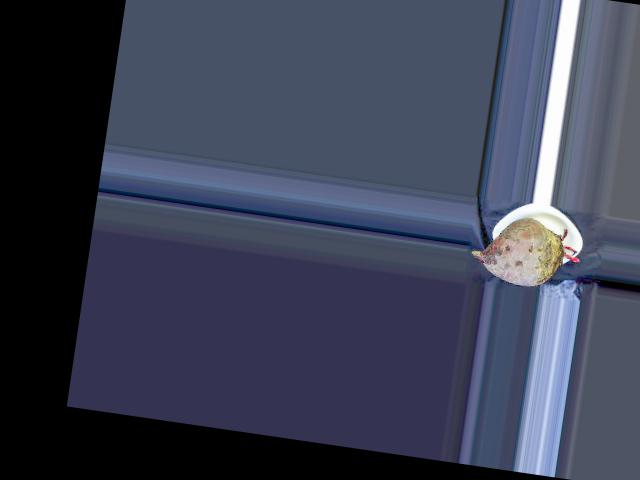beet: (469, 210, 585, 291)
